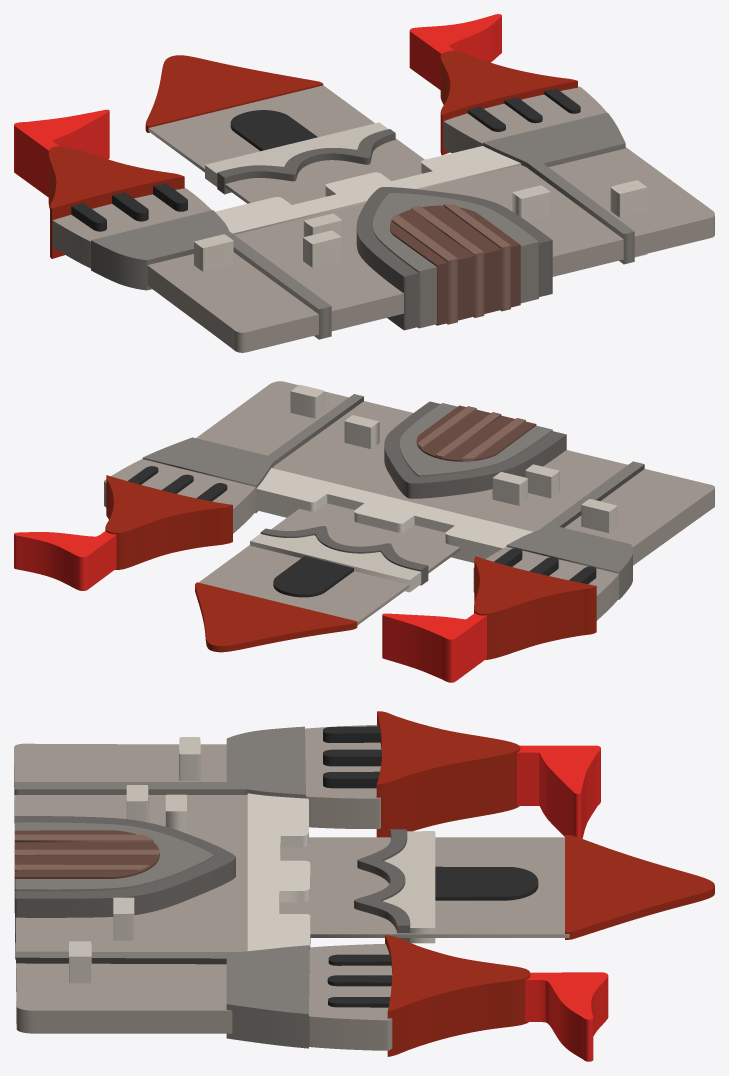
File: emoji_u1f3f0.glb
3 views of the same model, one above another, from view 1: azimuth 30°, elevation 25°; view 2: azimuth 150°, elevation 25°; view 3: azimuth 270°, elevation 25° (orthographic). The views are drawn at different scales.
Visible parts, largest first — view 1: emoji_u1f3f0; view 2: emoji_u1f3f0; view 3: emoji_u1f3f0.
Part boxes in pixels (left/top/right/bottom): emoji_u1f3f0: left=14, top=14, right=714, bottom=352; emoji_u1f3f0: left=14, top=381, right=714, bottom=682; emoji_u1f3f0: left=14, top=711, right=714, bottom=1061.
Bounding box in the file's own units: 0.0338 × 0.004 × 0.0333.
